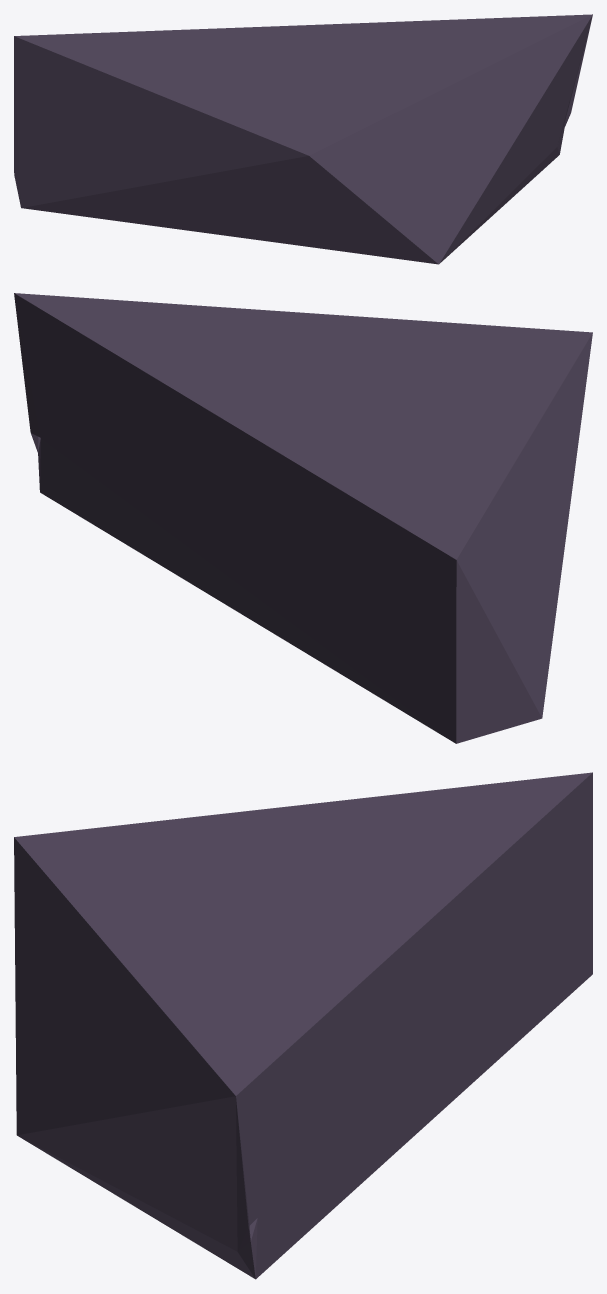
Rendered from SM_rock_large_01.fbx.
The picture shows the model from 3 angles, top to bottom: view 1: azimuth 30°, elevation 25°; view 2: azimuth 150°, elevation 25°; view 3: azimuth 270°, elevation 25°; orthographic projection. The views are drawn at different scales.
Visible parts, largest first — view 1: rock_large_01; view 2: rock_large_01; view 3: rock_large_01.
Boxes of the visible parts, x1,y1,x2,y2 form: rock_large_01: (14,14,592,264); rock_large_01: (14,293,592,743); rock_large_01: (14,772,592,1279).
Size of the model in its own units: 212 by 59 by 151.
